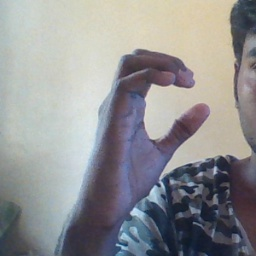C: (107, 44, 216, 161)
